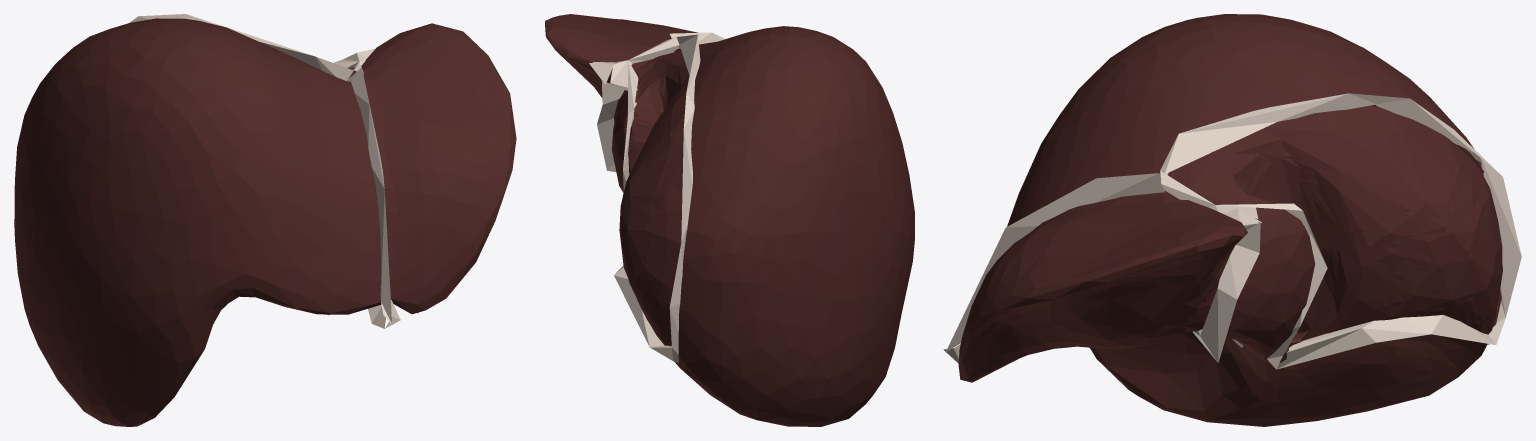
Rendered from VH_M_Liver_0.1.glb.
The picture shows the model from 3 angles, left to right: view 1: azimuth 30°, elevation 25°; view 2: azimuth 150°, elevation 25°; view 3: azimuth 270°, elevation 25°; orthographic projection. The views are drawn at different scales.
Visible parts, largest first — view 1: VH_M_liver_capsule, VH_M_falciform_ligament, VH_M_coronary_ligament_of_liver; view 2: VH_M_liver_capsule, VH_M_bare_area_of_liver, VH_M_coronary_ligament_of_liver, VH_M_right_posterosuperior_segment, VH_M_caudate_lobe_of_liver, VH_M_ligamentum_venosum, VH_M_diaphragmatic_surface, VH_M_right_posteroinferior_segment; view 3: VH_M_liver_capsule, VH_M_bare_area_of_liver, VH_M_coronary_ligament_of_liver, VH_M_right_posterosuperior_segment, VH_M_diaphragmatic_surface, VH_M_falciform_ligament, VH_M_caudate_lobe_of_liver, VH_M_ligamentum_venosum.
Boxes of the visible parts, x1=… form: VH_M_liver_capsule: x1=14, y1=18, x2=516, y2=426; VH_M_falciform_ligament: x1=347, y1=67, x2=392, y2=324; VH_M_coronary_ligament_of_liver: x1=129, y1=14, x2=366, y2=80; VH_M_liver_capsule: x1=545, y1=14, x2=914, y2=426; VH_M_bare_area_of_liver: x1=619, y1=51, x2=689, y2=345; VH_M_coronary_ligament_of_liver: x1=610, y1=34, x2=700, y2=362; VH_M_right_posterosuperior_segment: x1=621, y1=101, x2=685, y2=317; VH_M_caudate_lobe_of_liver: x1=628, y1=53, x2=682, y2=164; VH_M_ligamentum_venosum: x1=597, y1=80, x2=624, y2=172; VH_M_diaphragmatic_surface: x1=628, y1=73, x2=676, y2=330; VH_M_right_posteroinferior_segment: x1=642, y1=307, x2=671, y2=344; VH_M_liver_capsule: x1=958, y1=14, x2=1501, y2=426; VH_M_bare_area_of_liver: x1=1172, y1=105, x2=1502, y2=340; VH_M_coronary_ligament_of_liver: x1=1160, y1=93, x2=1521, y2=369; VH_M_right_posterosuperior_segment: x1=1336, y1=106, x2=1502, y2=315; VH_M_diaphragmatic_surface: x1=1222, y1=158, x2=1491, y2=356; VH_M_falciform_ligament: x1=946, y1=173, x2=1164, y2=351; VH_M_caudate_lobe_of_liver: x1=1185, y1=150, x2=1356, y2=346; VH_M_ligamentum_venosum: x1=1192, y1=222, x2=1260, y2=362.
Size of the model in its own units: 0.1916 by 0.175 by 0.2055.
